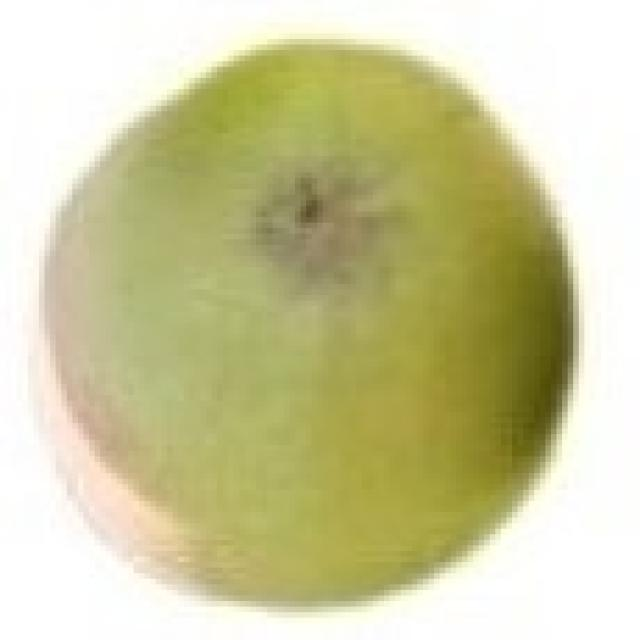50-_ripeness: (32, 33, 564, 600)
